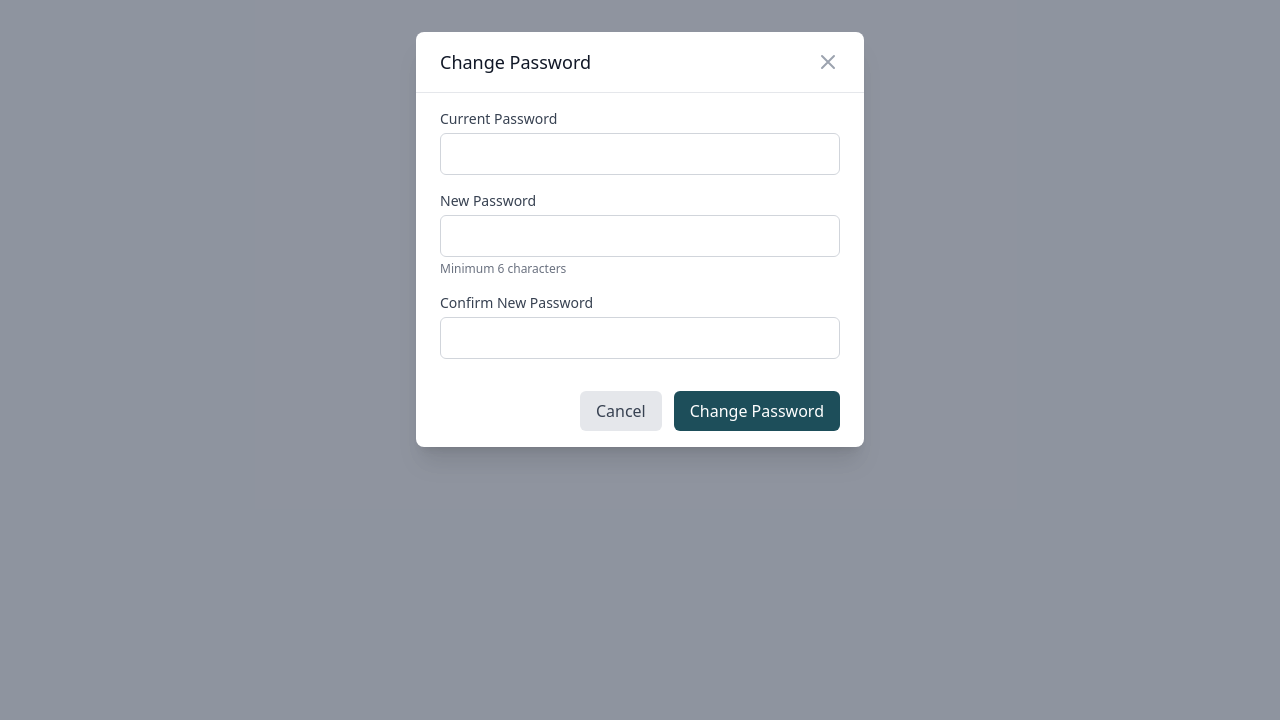
it: ChangePasswordModal › shows success message on successful password change
In the password field labelled "Current Password": (640, 154) [440,133,840,175], type "currentpass"
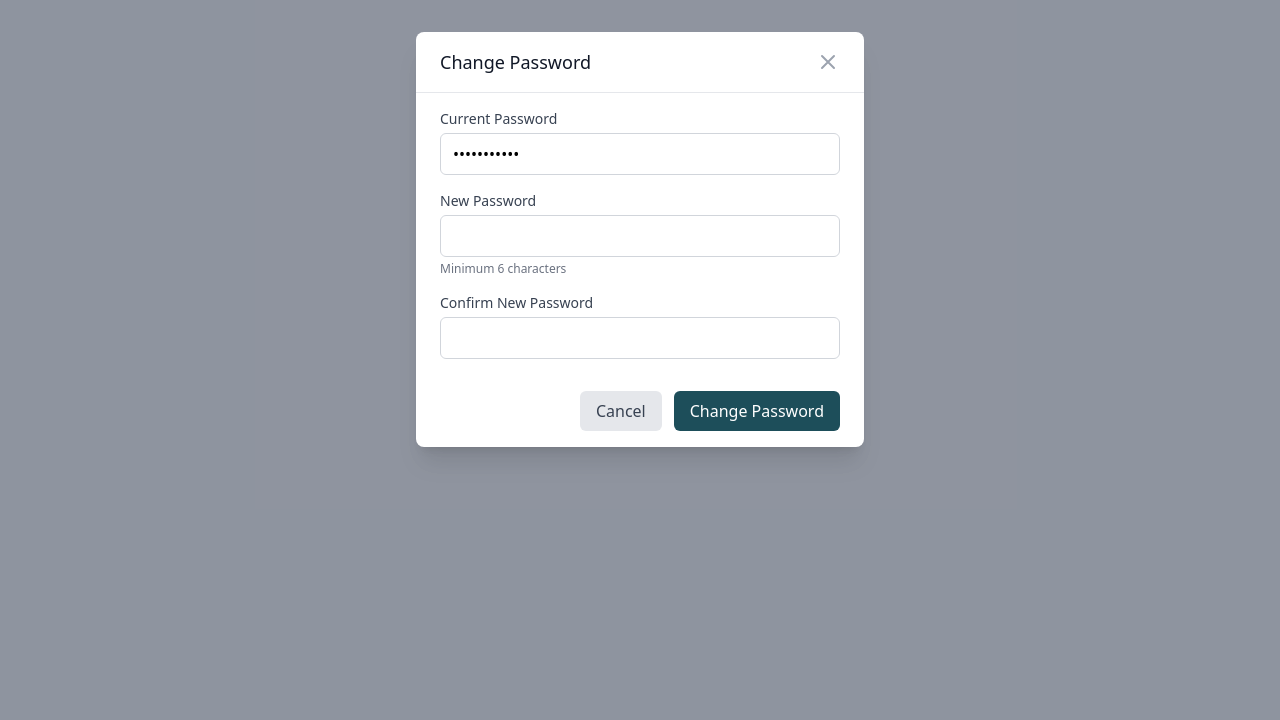
In the password field labelled "New Password": (640, 236) [440,215,840,257], type "newpass123"
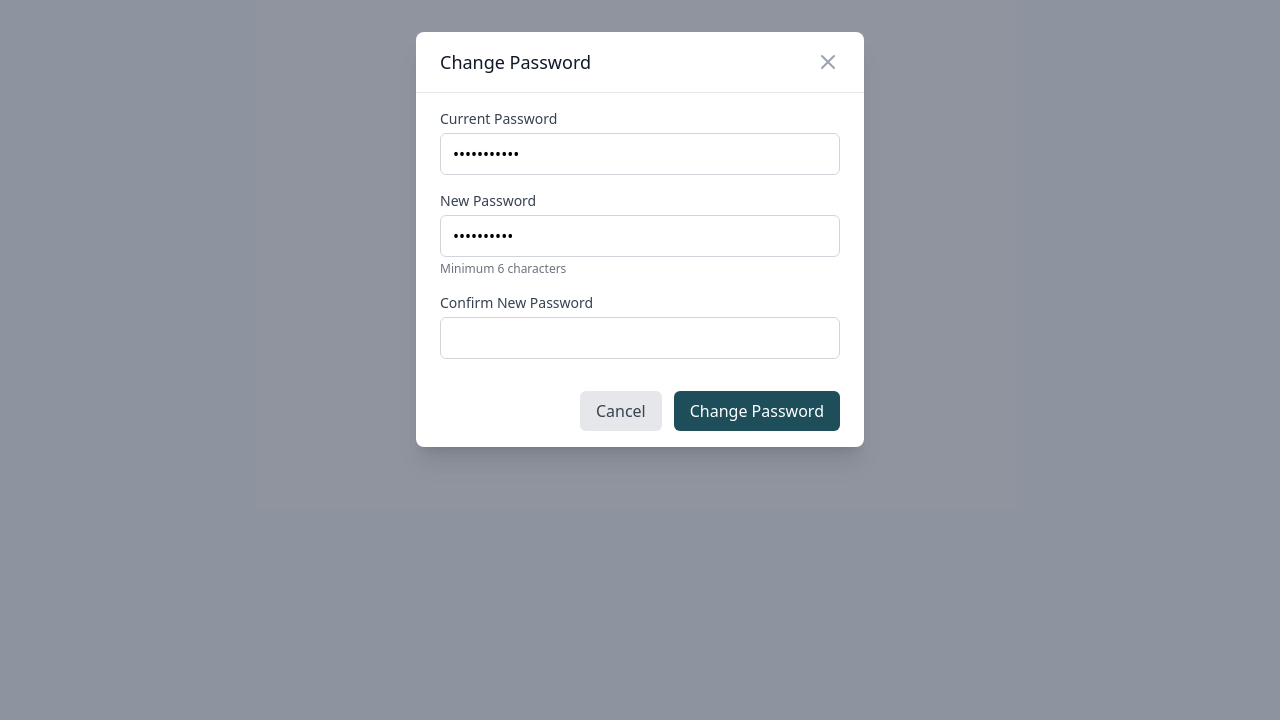
In the password field labelled "Confirm New Password": (640, 338) [440,317,840,359], type "newpass123"
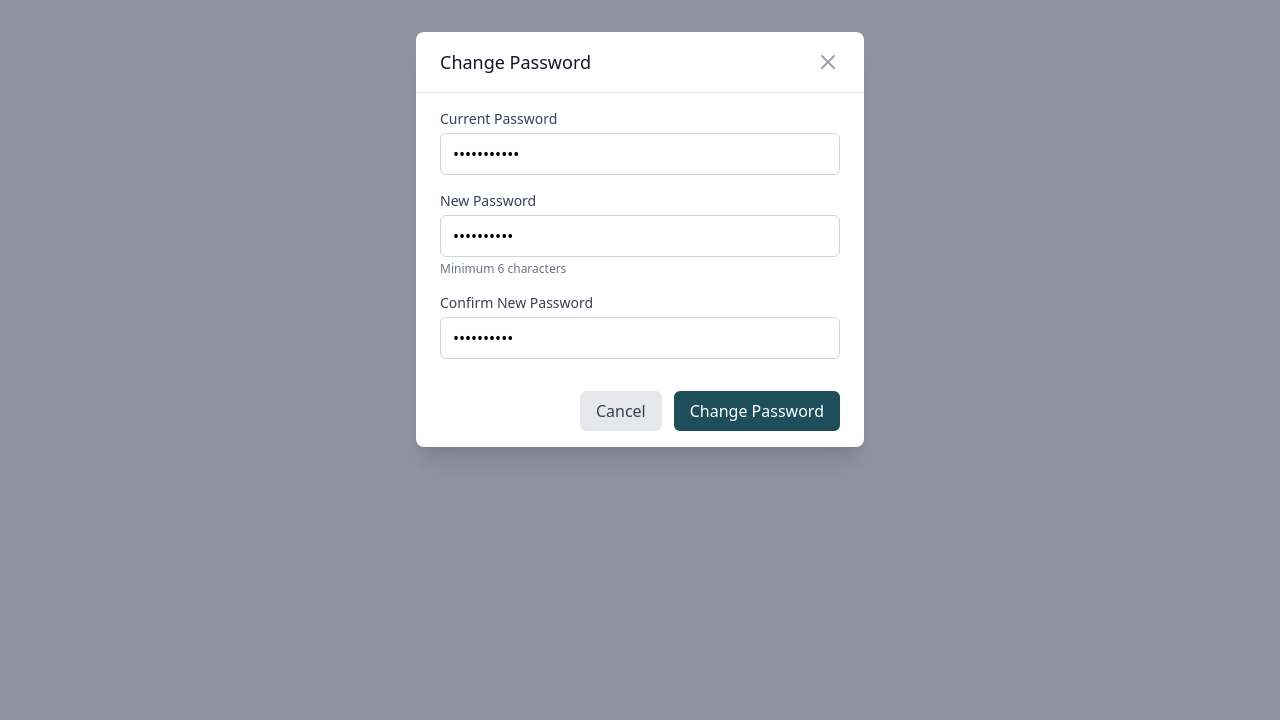
Click the button "Change Password": (757, 411) [674,391,840,431]
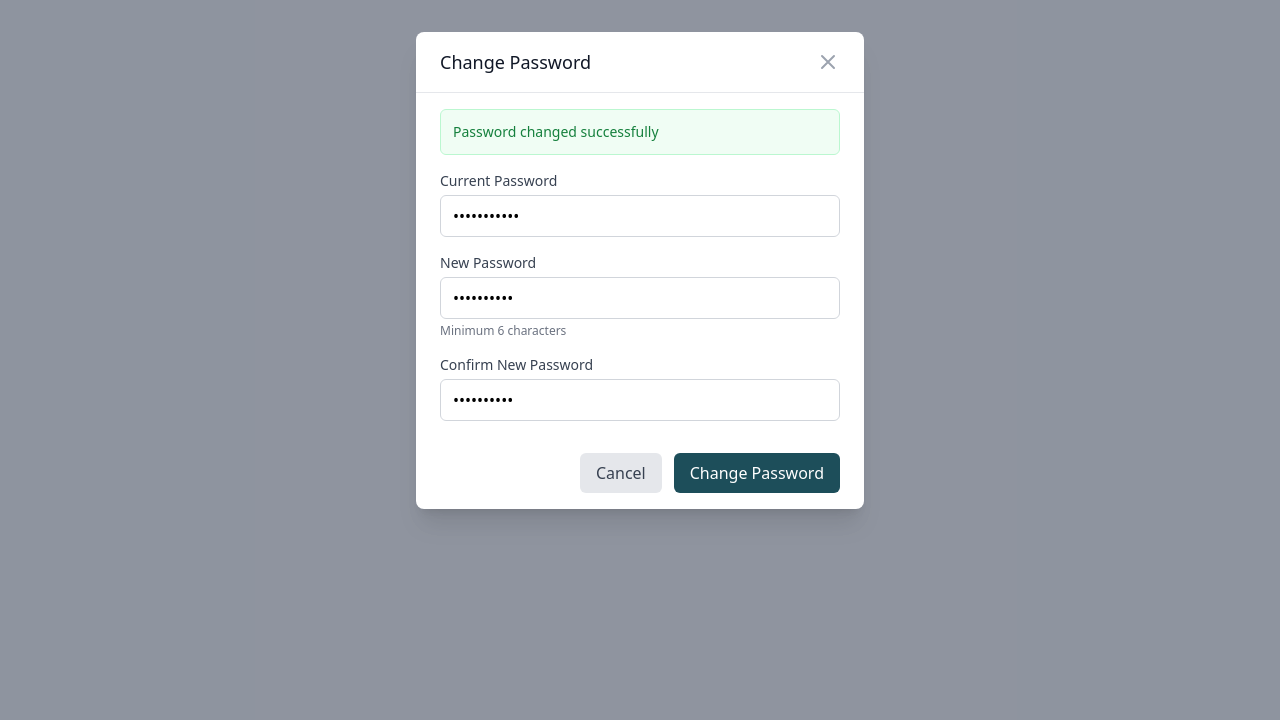
Expected: the text "Password changed successfully" is shown, [440,109,840,155]
